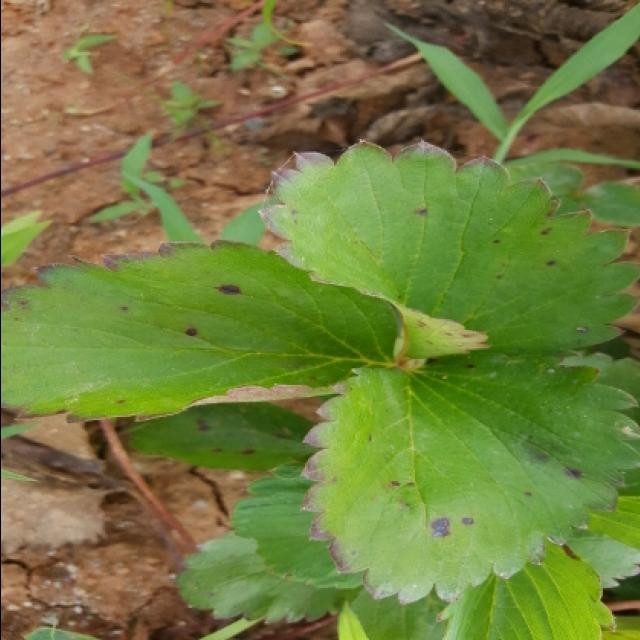Leaf Spot: (298, 349, 640, 608), (256, 138, 640, 367), (2, 237, 410, 424), (174, 530, 359, 625), (114, 401, 319, 470)
